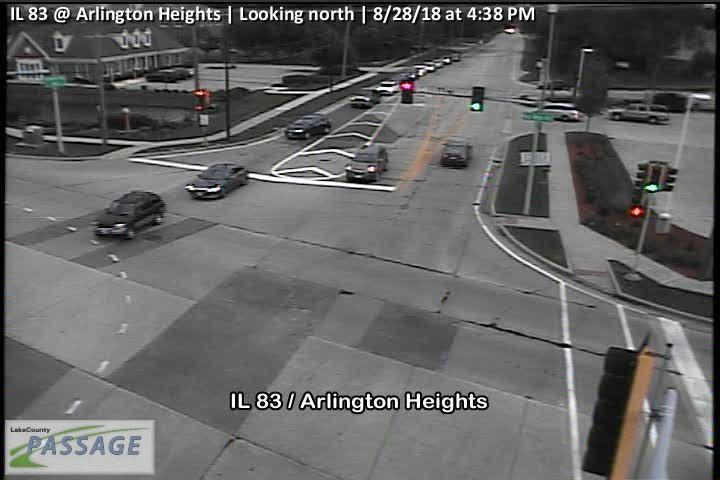SUV: (94, 191, 165, 240), (344, 144, 388, 181), (285, 113, 331, 140), (438, 137, 473, 168), (534, 102, 583, 122), (348, 88, 378, 108), (376, 79, 400, 96)
Sedan: (183, 163, 248, 200)
Truck: (607, 103, 668, 124)
